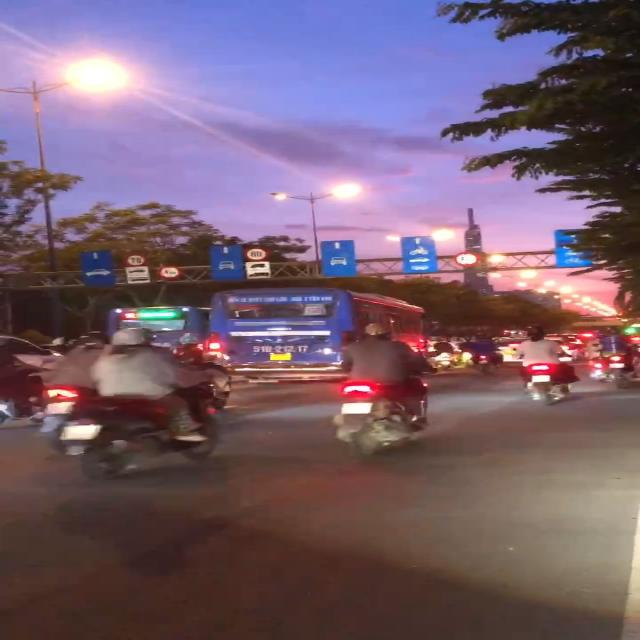Bien bao toc do toi da cho phep: (242, 246, 274, 262), (121, 252, 151, 267)
